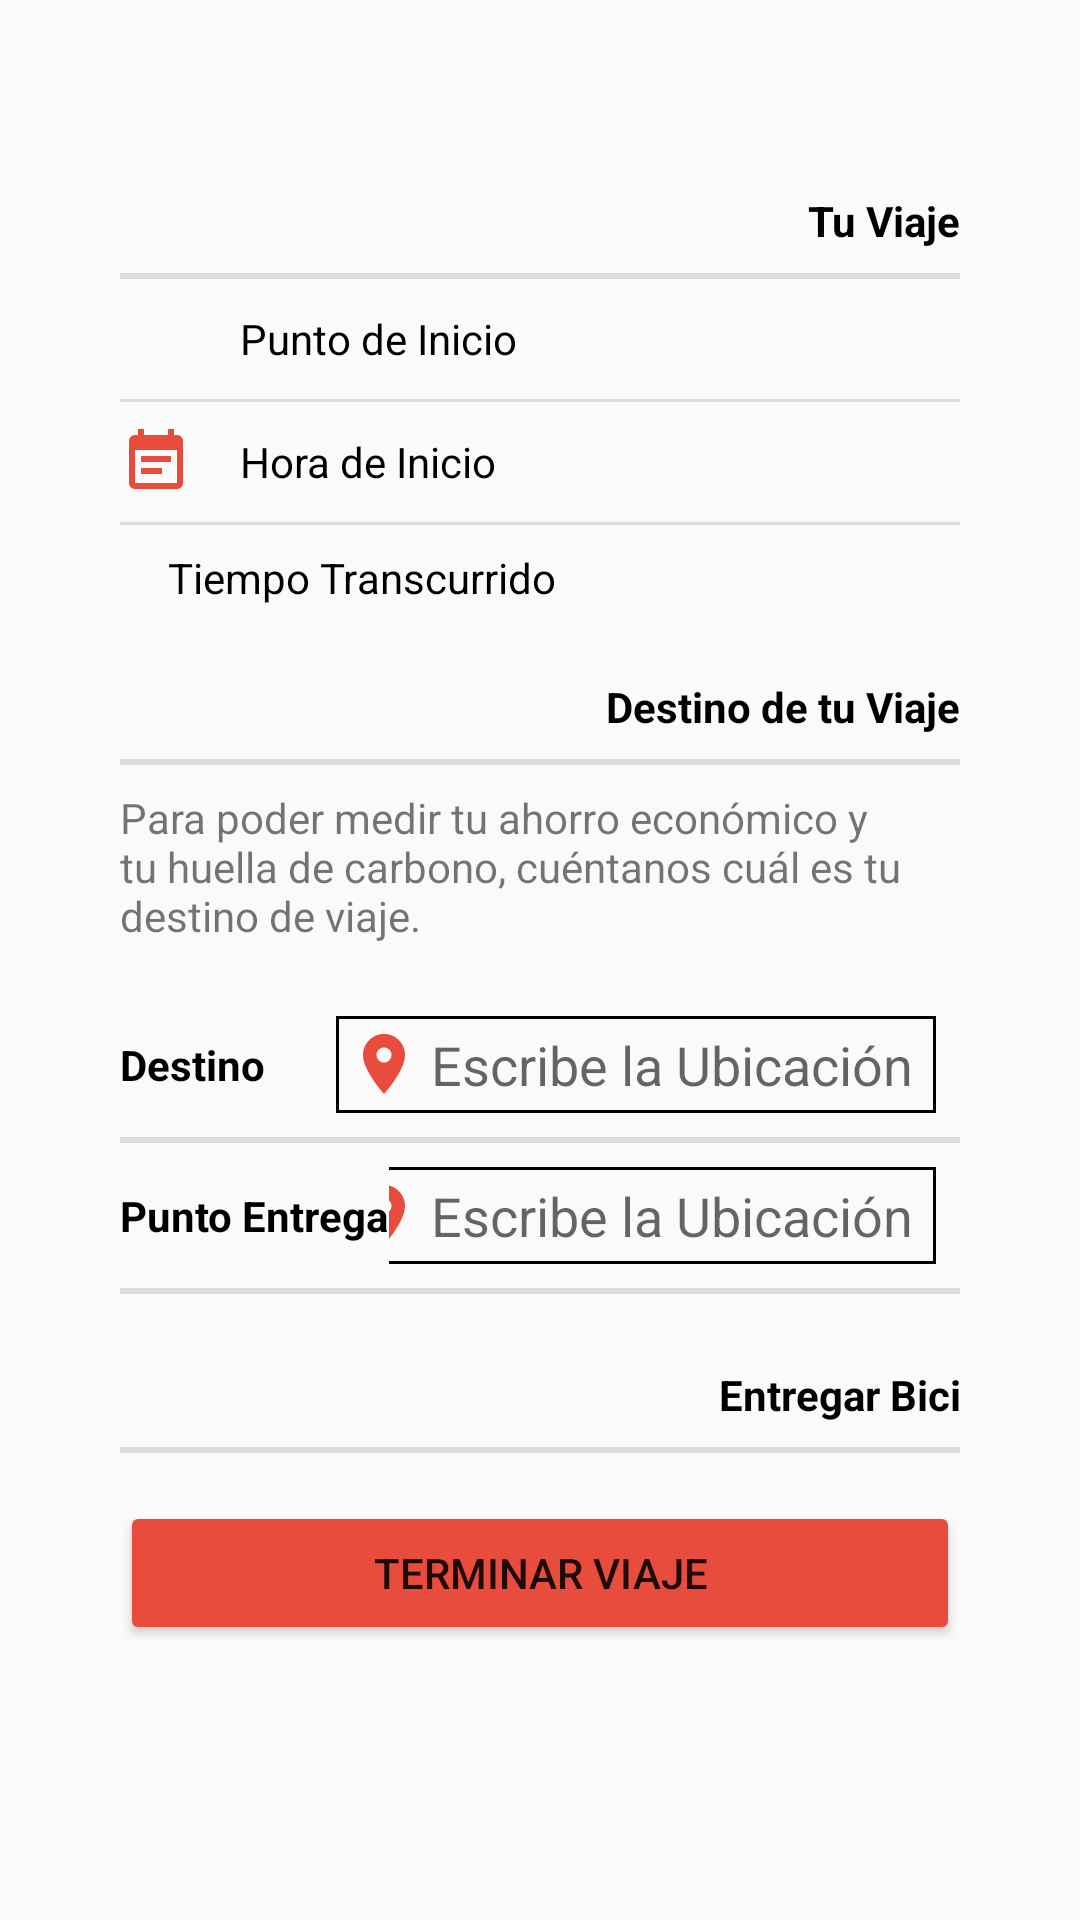

Icon click points for this 1080px×1920px phone screenshot, format (x=x, y=y):
event: (x=156, y=459)
